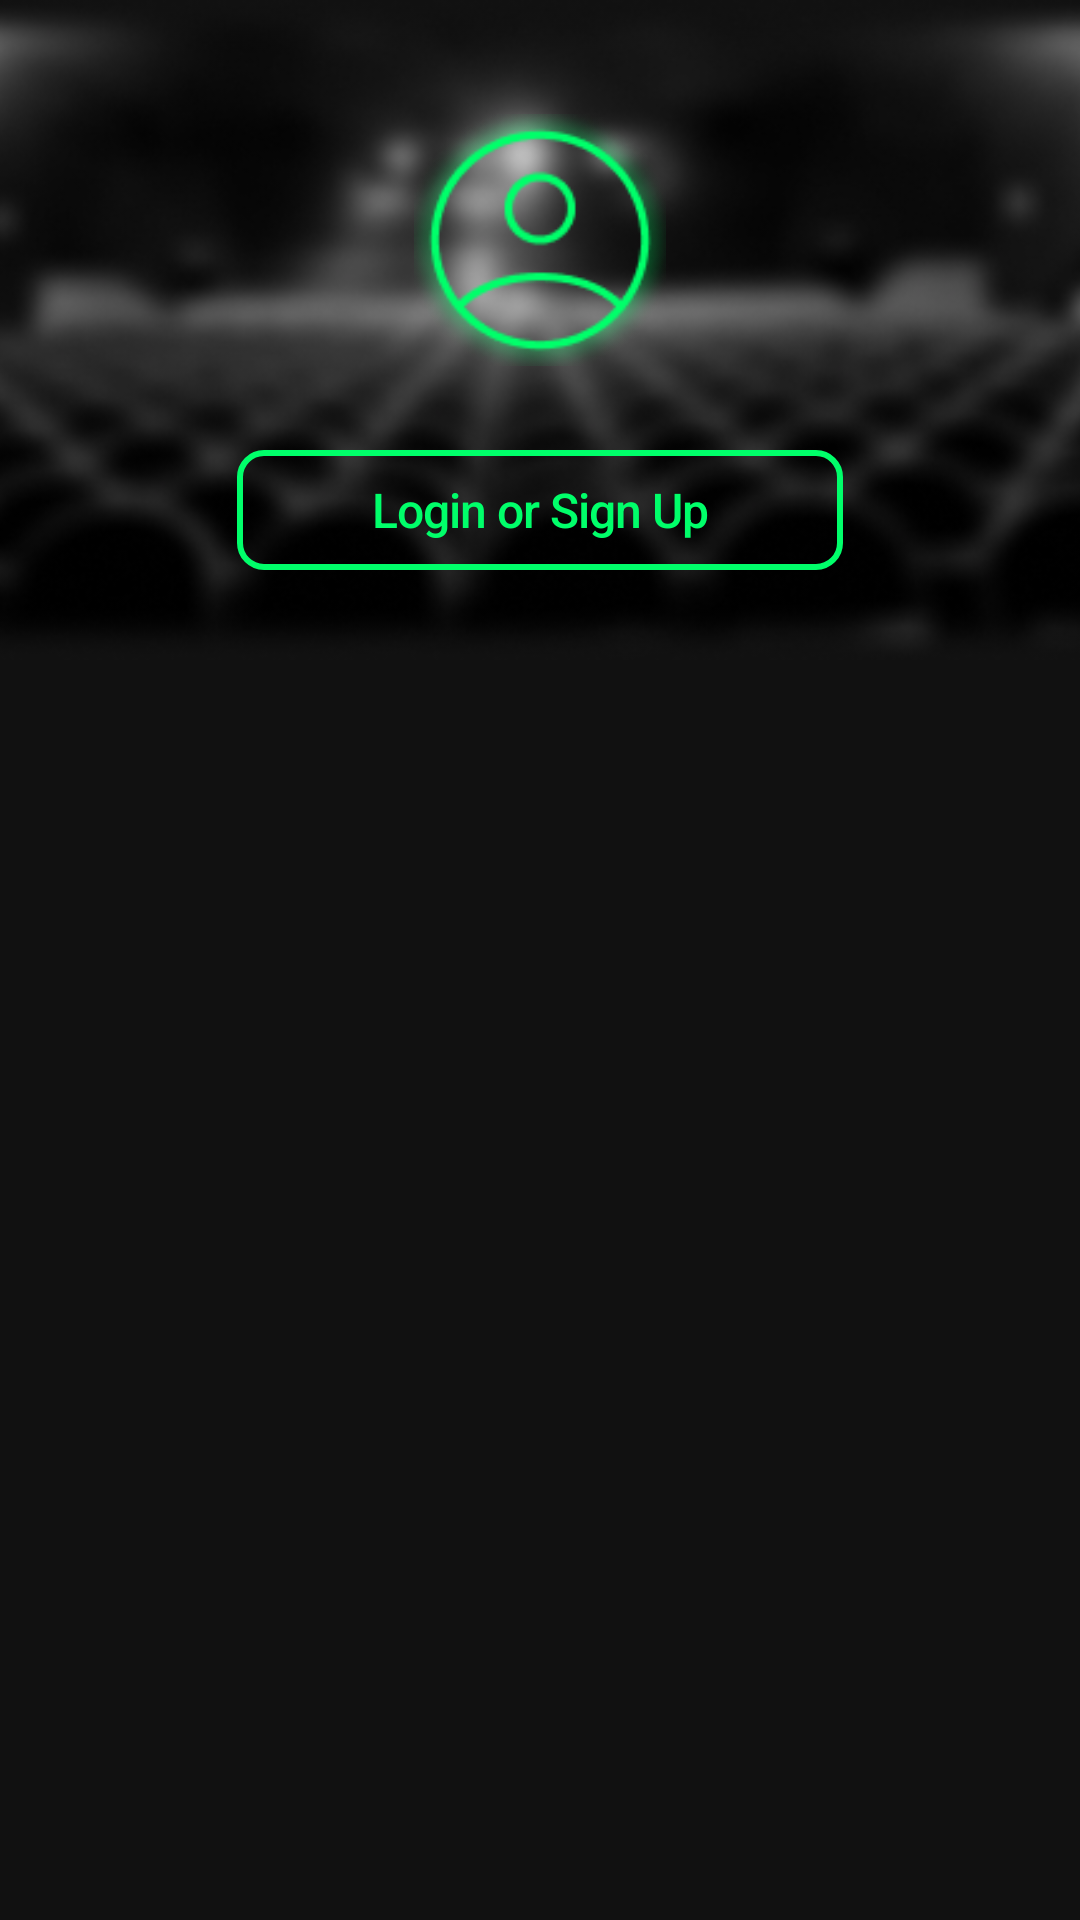

Icons on this 1080x1920 Android screen, each with its box as [x1,y1,x2,y2]:
profile circled: [414,114,666,366]
